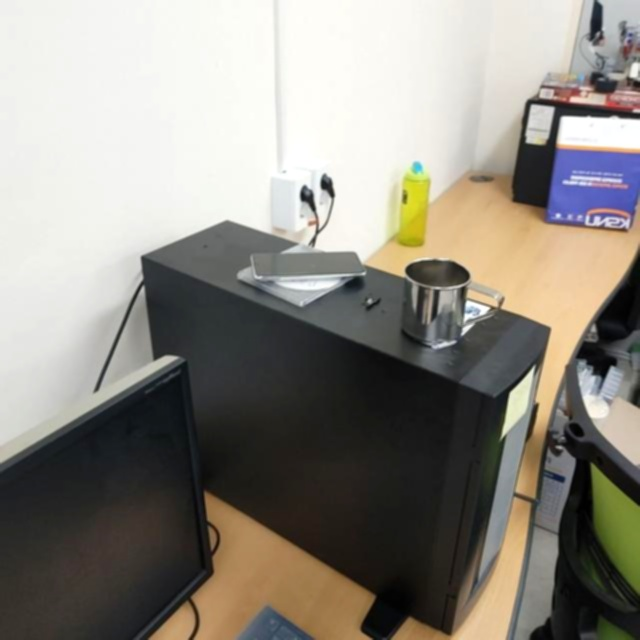cup: (398, 256, 507, 345)
phone: (250, 248, 366, 281)
